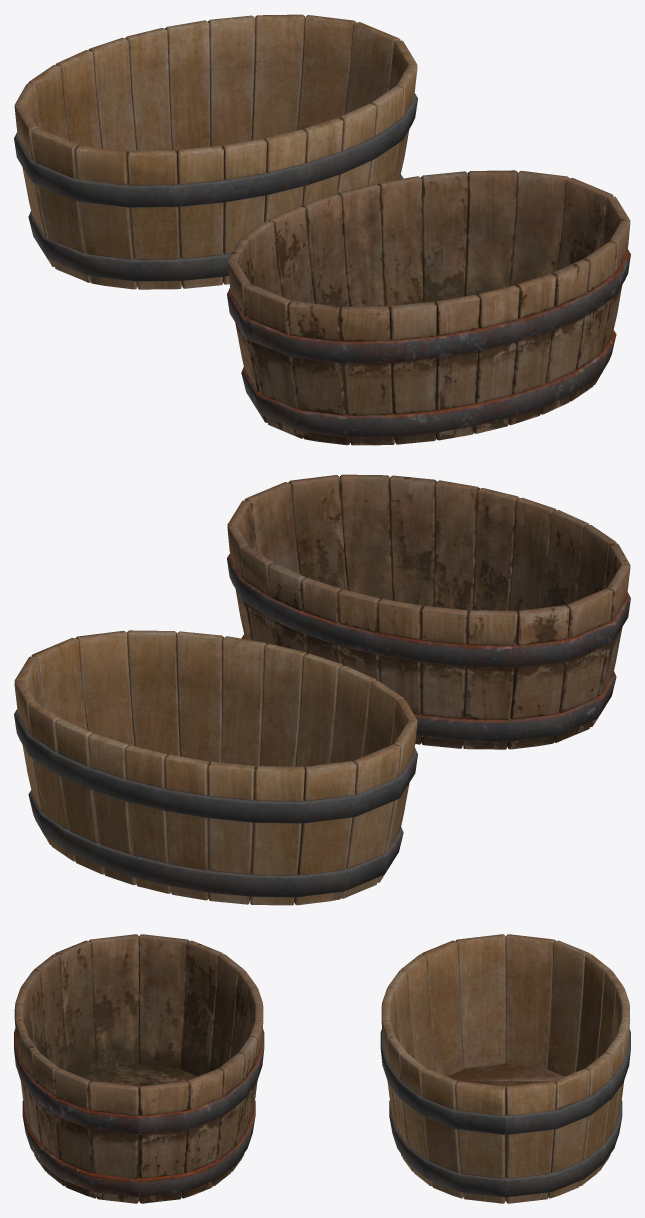
The model's file is tub.glb.
3 renders of one model, top to bottom at view 1: azimuth 30°, elevation 25°; view 2: azimuth 150°, elevation 25°; view 3: azimuth 270°, elevation 25°, orthographic. The views are drawn at different scales.
Visible parts, largest first — view 1: WoodenTubDirty_WoodenTubDirtyWood_0, WoodenTubClean_WoodenTubCleanWood_0, WoodenTubDirty_WoodenTubDirtyMetal_0, WoodenTubClean_WoodenTubCleanMetal_0; view 2: WoodenTubClean_WoodenTubCleanWood_0, WoodenTubDirty_WoodenTubDirtyWood_0, WoodenTubClean_WoodenTubCleanMetal_0, WoodenTubDirty_WoodenTubDirtyMetal_0; view 3: WoodenTubDirty_WoodenTubDirtyWood_0, WoodenTubClean_WoodenTubCleanWood_0, WoodenTubClean_WoodenTubCleanMetal_0, WoodenTubDirty_WoodenTubDirtyMetal_0.
Boxes of the visible parts, x1,y1,x2,y2 form: WoodenTubDirty_WoodenTubDirtyWood_0: (227,170,630,445); WoodenTubClean_WoodenTubCleanWood_0: (14,14,417,289); WoodenTubDirty_WoodenTubDirtyMetal_0: (227,212,630,437); WoodenTubClean_WoodenTubCleanMetal_0: (14,48,417,281); WoodenTubClean_WoodenTubCleanWood_0: (14,630,417,905); WoodenTubDirty_WoodenTubDirtyWood_0: (227,474,630,749); WoodenTubClean_WoodenTubCleanMetal_0: (14,672,417,897); WoodenTubDirty_WoodenTubDirtyMetal_0: (227,508,630,741); WoodenTubDirty_WoodenTubDirtyWood_0: (14,934,263,1203); WoodenTubClean_WoodenTubCleanWood_0: (381,934,630,1203); WoodenTubClean_WoodenTubCleanMetal_0: (380,986,630,1197); WoodenTubDirty_WoodenTubDirtyMetal_0: (14,985,264,1197).
Size of the model in its own units: 101 by 37.6 by 168.
Materials: 4 (4 with a texture image).
